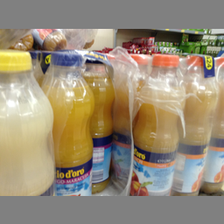juice: (1, 47, 56, 196), (131, 53, 185, 195), (45, 48, 93, 196)
